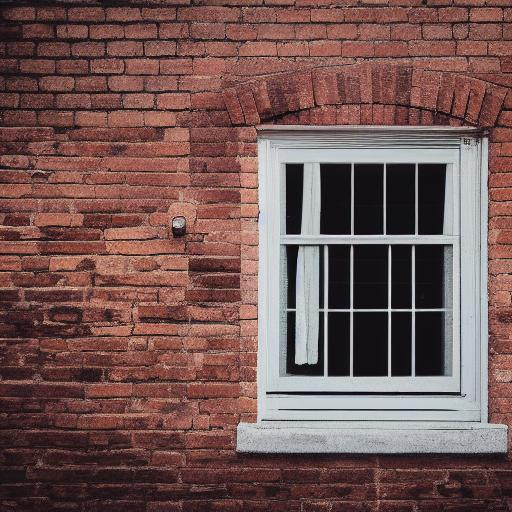Window: (215, 65, 512, 458)
